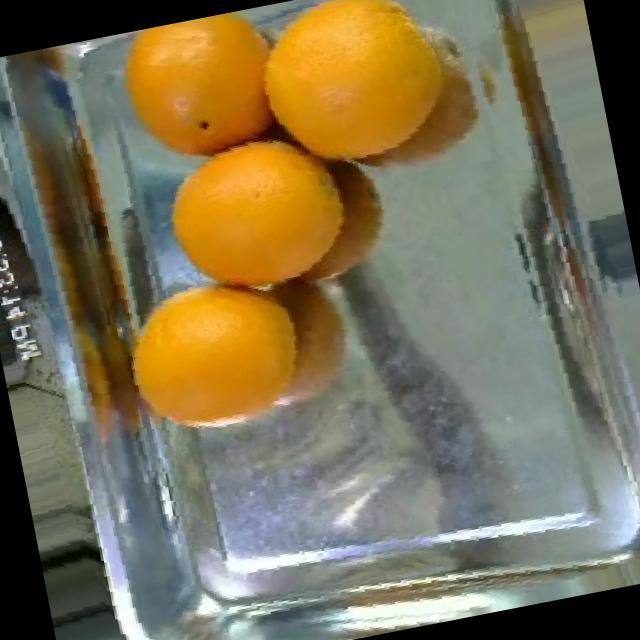Fruit: (129, 104, 376, 324), (93, 0, 328, 183)
